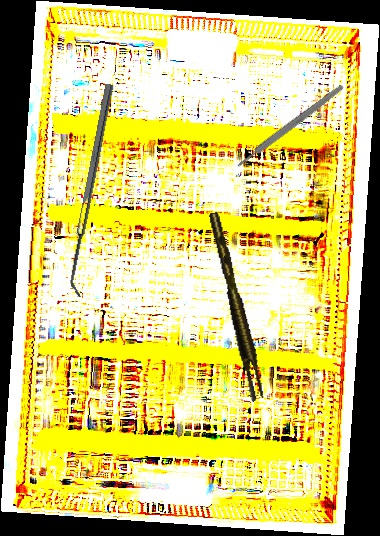Scalpel Handle: (234, 83, 346, 169)
Spatula Surgical: (64, 83, 122, 298)
Tissue Forceps: (208, 209, 266, 404)
